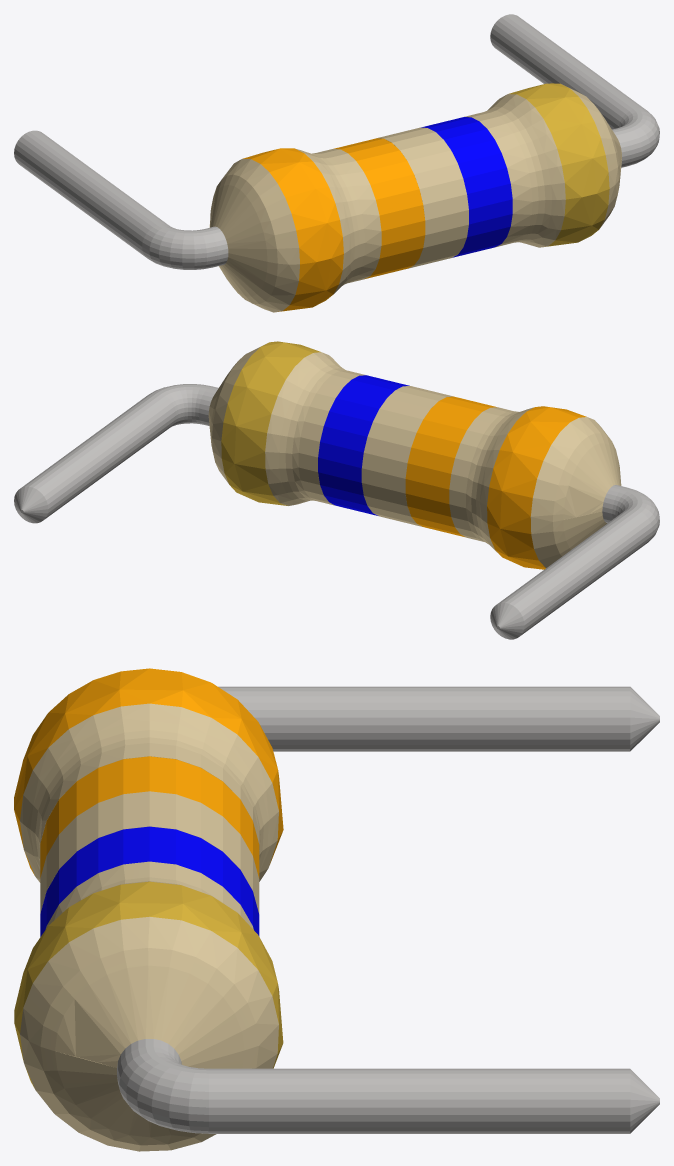
The model's file is Yageo CFR-25 Resistor Axial P7.62mm 33,0 MOhm.obj.
The picture shows the model from 3 angles, top to bottom: view 1: azimuth 30°, elevation 25°; view 2: azimuth 150°, elevation 25°; view 3: azimuth 270°, elevation 25°; orthographic projection. The views are drawn at different scales.
Visible parts, largest first — view 1: Yageo_CFR-25_Resistor_Axial_P7.62mm_33,0_MOhm; view 2: Yageo_CFR-25_Resistor_Axial_P7.62mm_33,0_MOhm; view 3: Yageo_CFR-25_Resistor_Axial_P7.62mm_33,0_MOhm.
Part boxes in pixels (box(x1,y1,x2,y2)): Yageo_CFR-25_Resistor_Axial_P7.62mm_33,0_MOhm: box(14, 14, 659, 312); Yageo_CFR-25_Resistor_Axial_P7.62mm_33,0_MOhm: box(14, 341, 659, 639); Yageo_CFR-25_Resistor_Axial_P7.62mm_33,0_MOhm: box(14, 668, 659, 1151).
Bounding box in the file's own units: 0.0145 × 0.004 × 0.00967.
